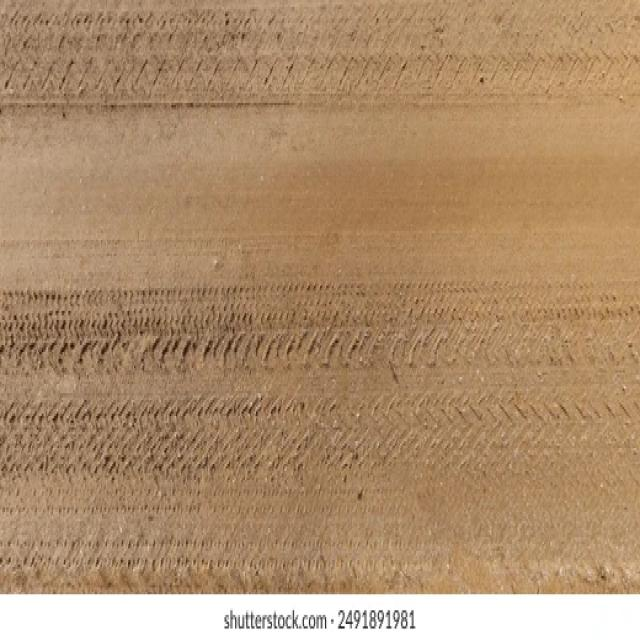suelo_seco: (126, 114, 581, 518)
